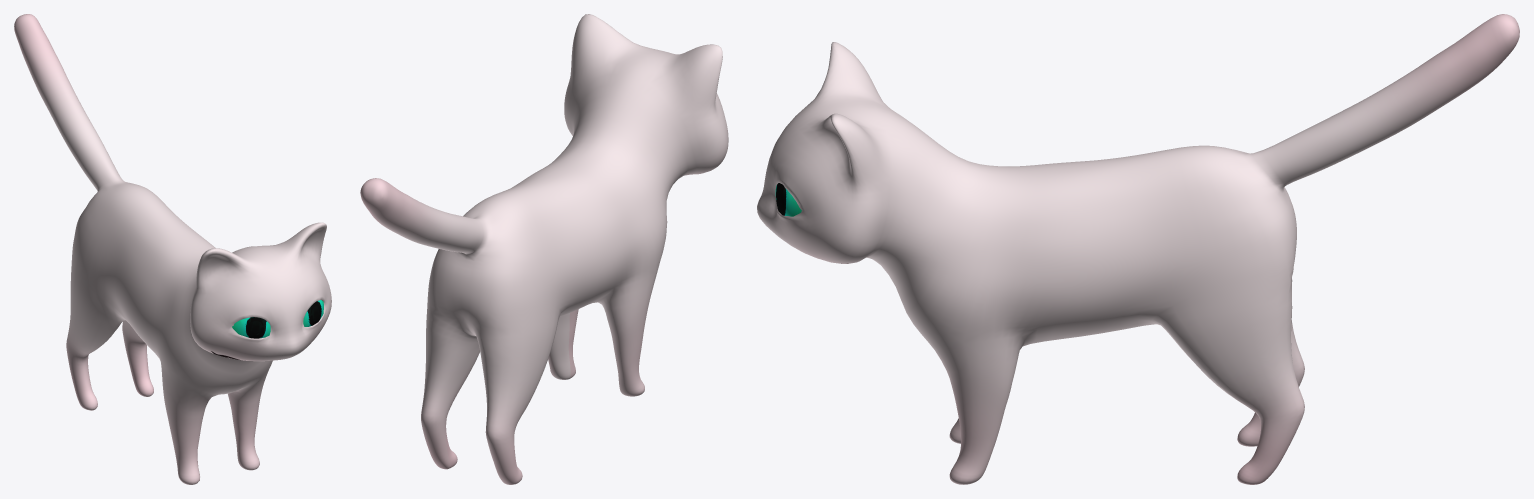
Rendered from mesh_kitty.fbx.
3 views of the same model, side by side, from view 1: azimuth 30°, elevation 25°; view 2: azimuth 150°, elevation 25°; view 3: azimuth 270°, elevation 25° (orthographic). The views are drawn at different scales.
Parts seen in each view (by area): view 1: kitty_cat; view 2: kitty_cat; view 3: kitty_cat.
Boxes of the visible parts, <box> form: kitty_cat: <box>14,14,331,484</box>; kitty_cat: <box>360,14,728,484</box>; kitty_cat: <box>757,14,1519,484</box>.
Bounding box in the file's own units: 8.39 × 18.93 × 29.17.
